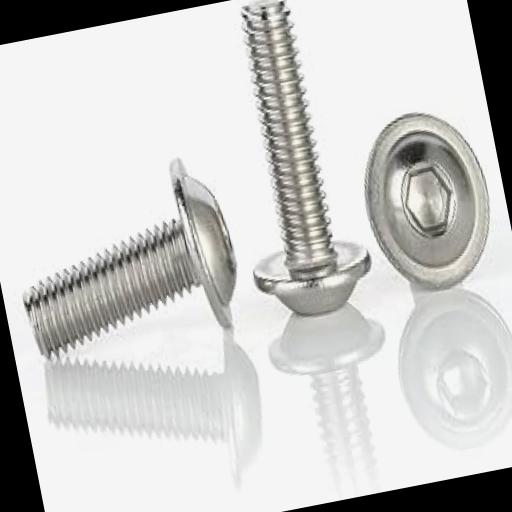Hex-Allen: (353, 104, 502, 298)
